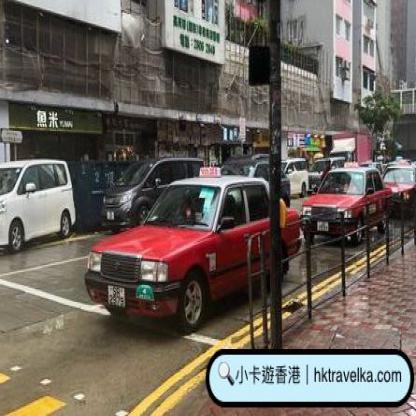taxi: (86, 166, 304, 336), (302, 164, 396, 248)
